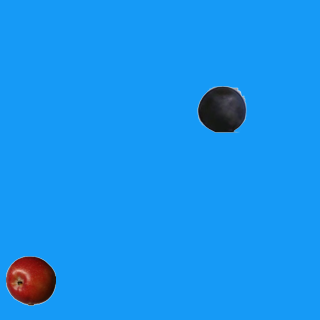Apple Braeburn: (5, 255, 55, 305)
Grape Blue: (196, 83, 246, 133)
